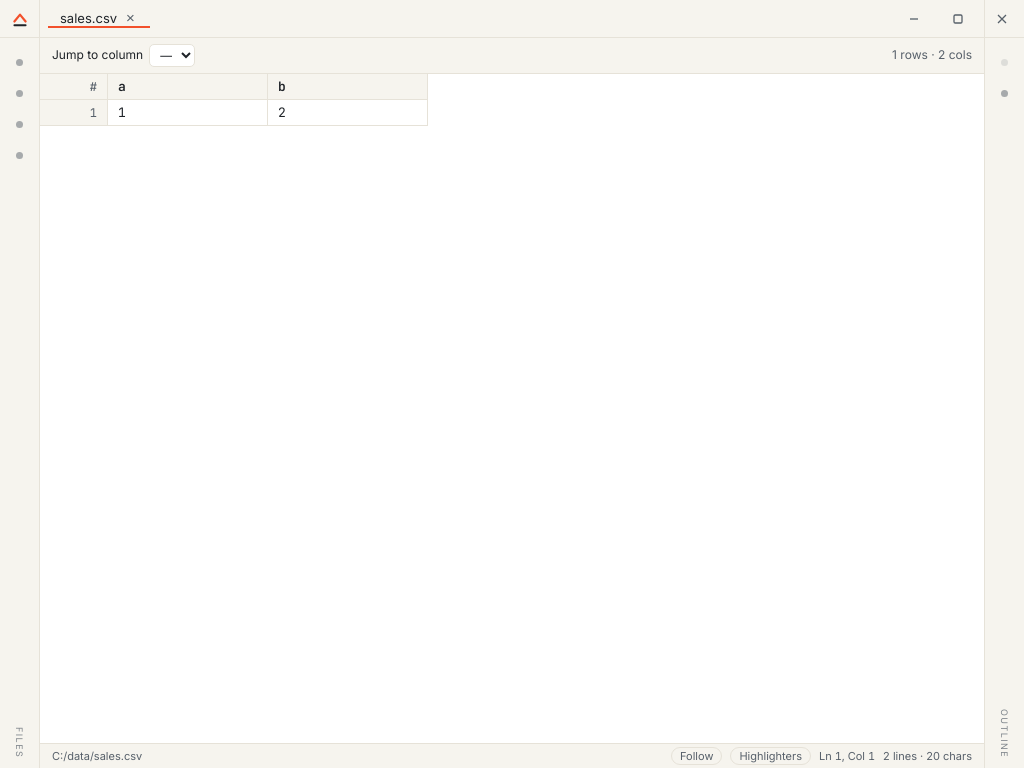
it: tabular view › toggles back to the text view with the View as text command
The image size is (1024, 768).
Press p
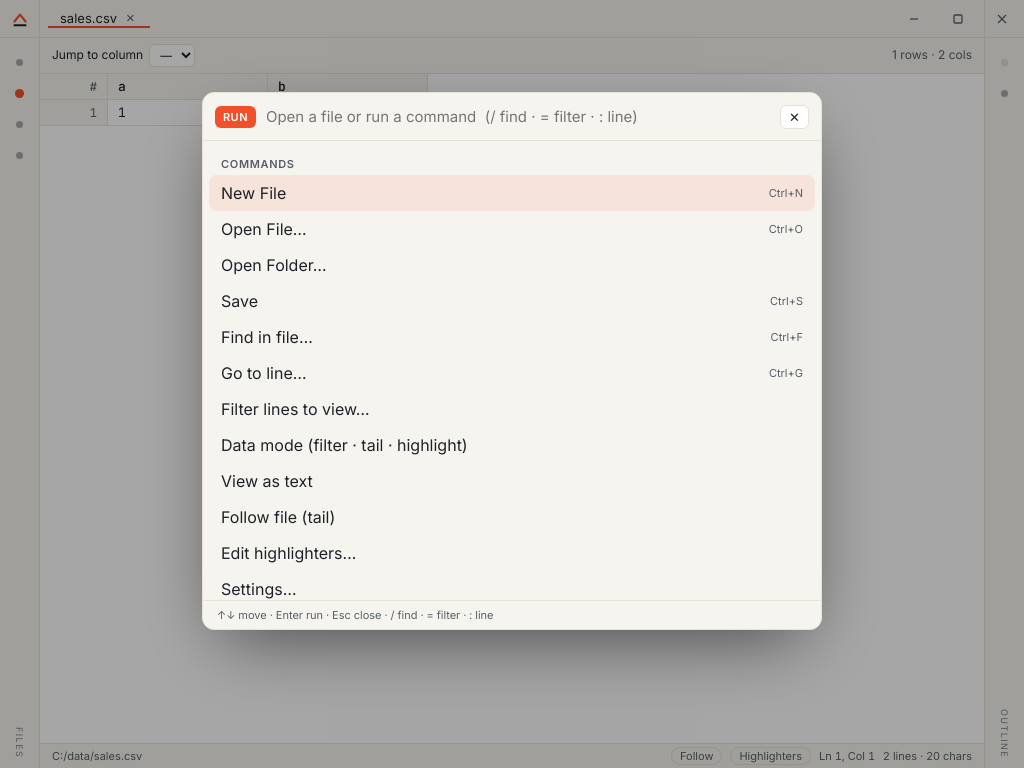
Click the text "View as text" at (267, 481), box [221,471,313,491]
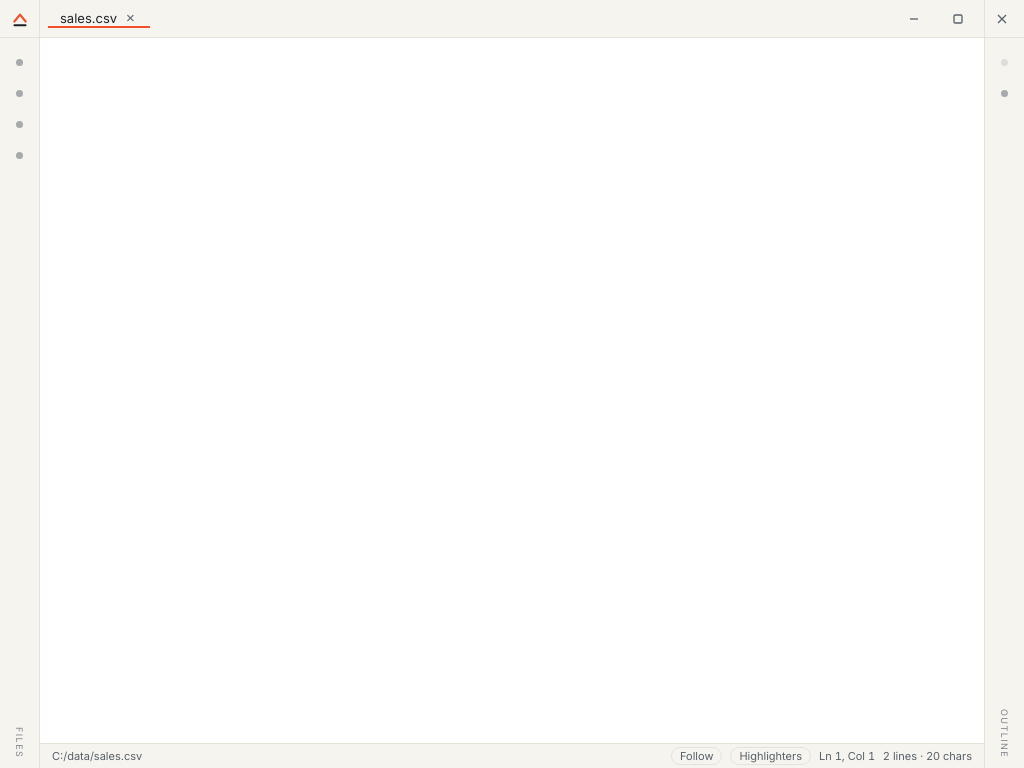
Expected: the element with test id "table-grid" is gone
